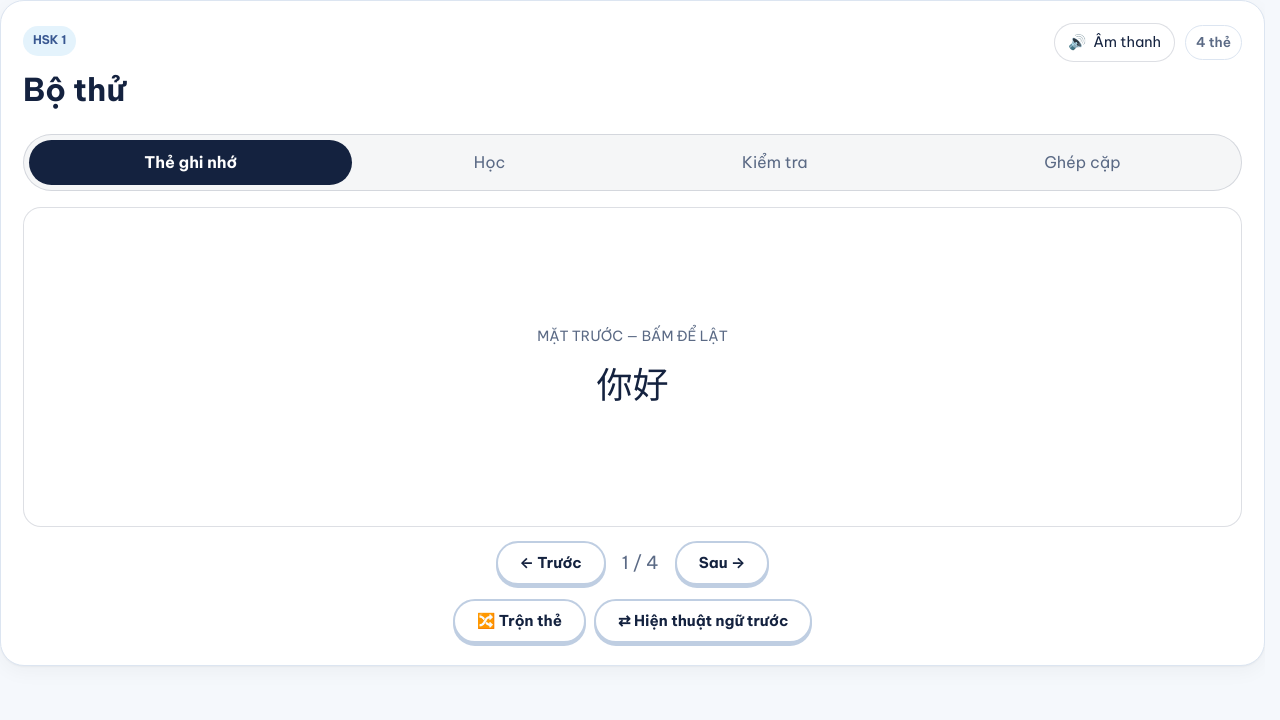
Test: hiệu ứng lật thẻ › chuyển thẻ thì thẻ mới về mặt trước
What coordinates should you click on to do the following:
click the button with aria-label "Lật thẻ"
I would click on:
 (632, 367)
Its box is [23,207,1242,527].
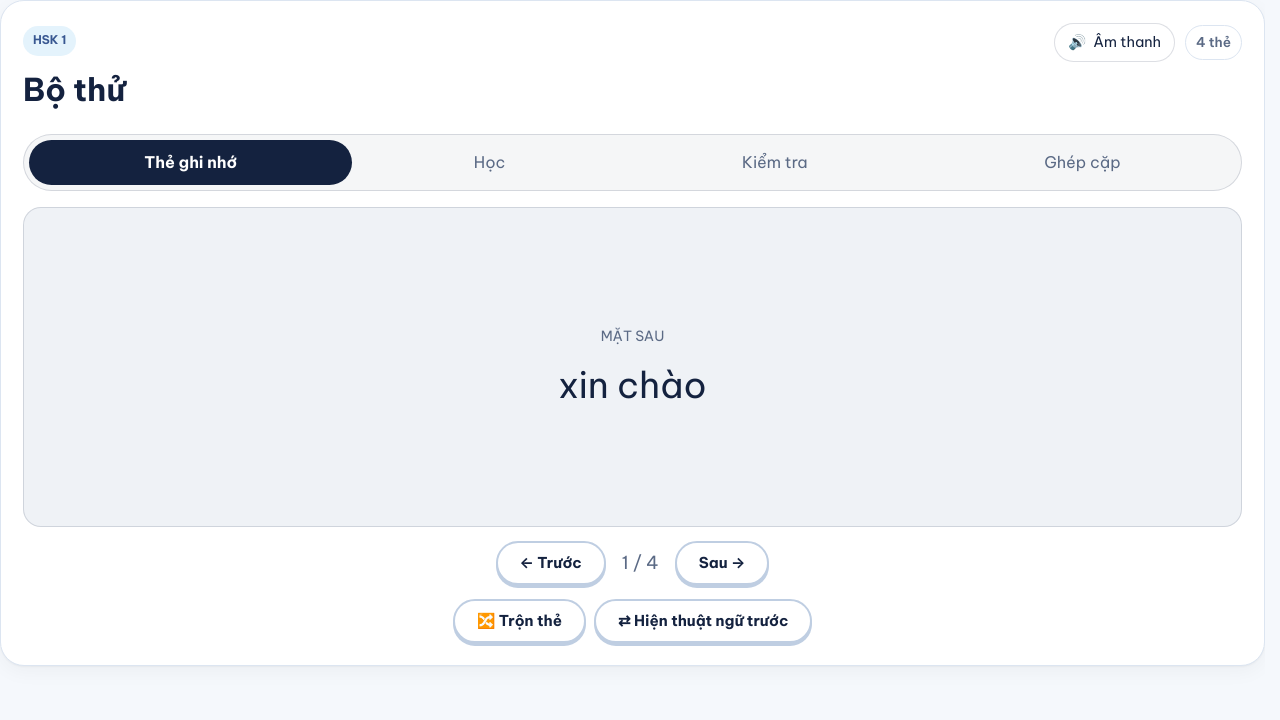
expect the element with class "fc-card-scene" has class "is-flipped": met, box [23,207,1242,527]
What coordinates should you click on to do the following:
click the button "Sau →"
I would click on:
 (722, 563)
Its box is [675,541,769,585].
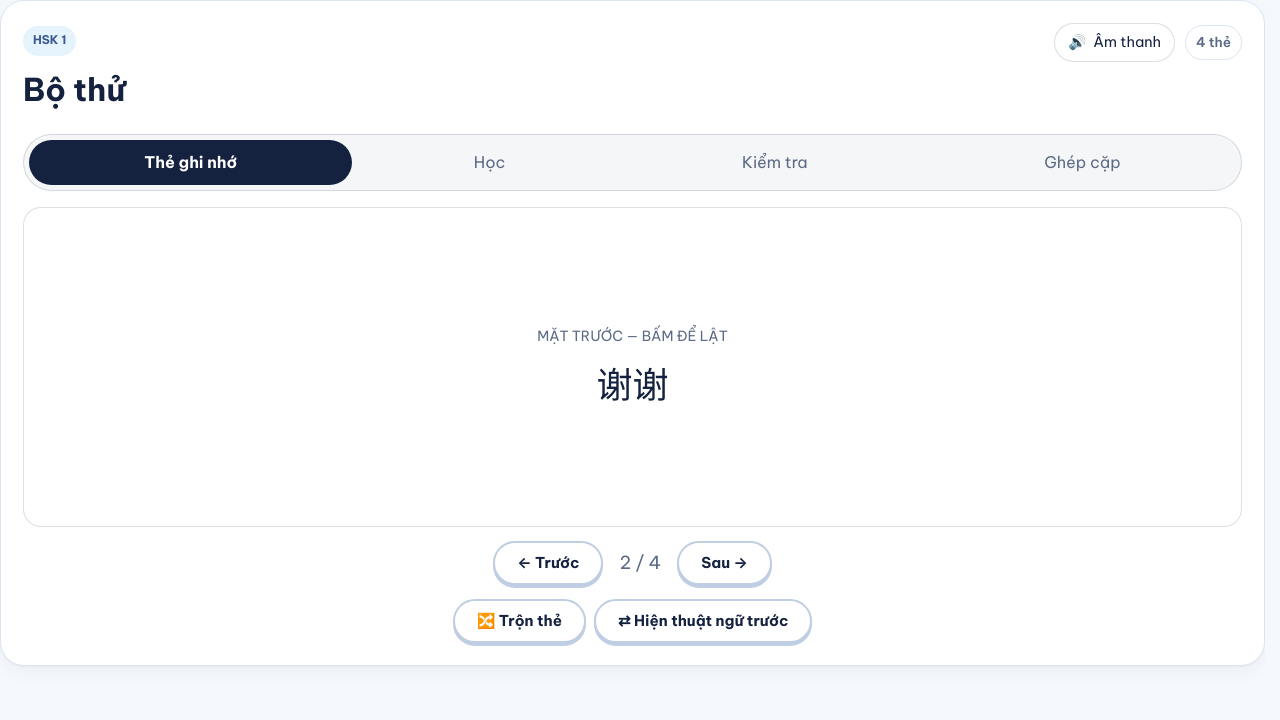
expect the text with class "fc-card__text" reads "谢谢": met, box [596,362,668,408]
